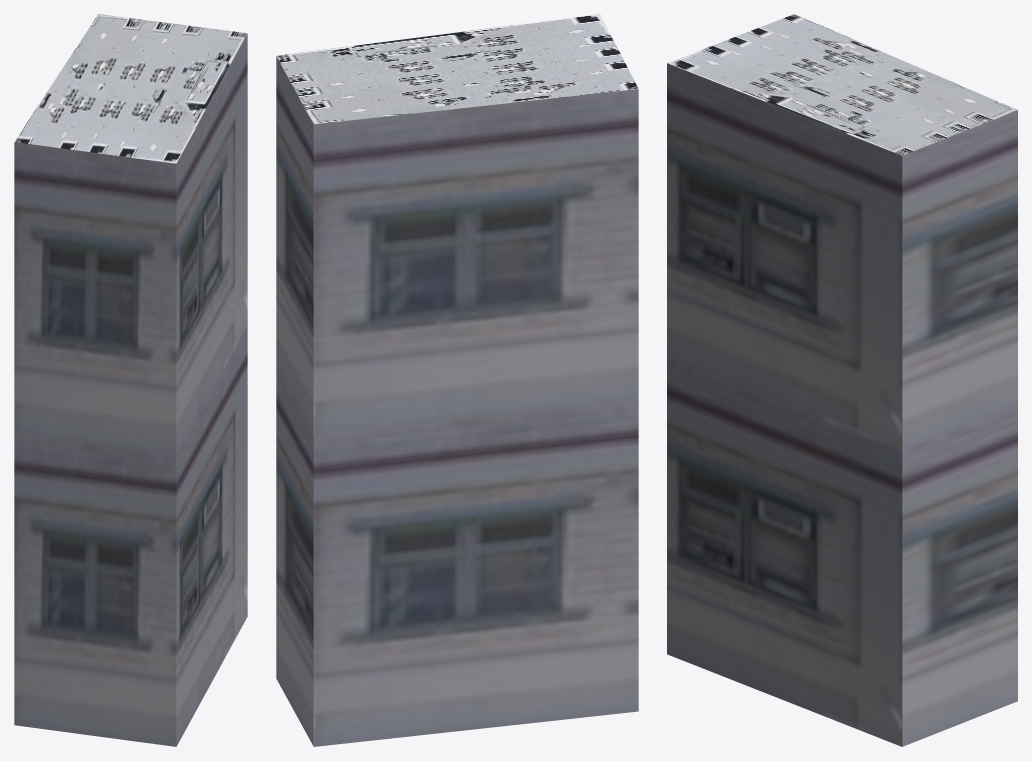
File: ResTex__4779.fbx
3 renders of one model, left to right at view 1: azimuth 30°, elevation 25°; view 2: azimuth 150°, elevation 25°; view 3: azimuth 270°, elevation 25°, orthographic. The views are drawn at different scales.
Visible parts, largest first — view 1: CityEngineMaterial_1_m, CityEngineMaterial_8_m; view 2: CityEngineMaterial_1_m, CityEngineMaterial_8_m; view 3: CityEngineMaterial_1_m, CityEngineMaterial_8_m.
Boxes of the visible parts, left/top/right/bottom form: CityEngineMaterial_1_m: left=14, top=34, right=247, bottom=746; CityEngineMaterial_8_m: left=14, top=14, right=247, bottom=163; CityEngineMaterial_1_m: left=276, top=56, right=638, bottom=746; CityEngineMaterial_8_m: left=276, top=14, right=638, bottom=124; CityEngineMaterial_1_m: left=667, top=63, right=1017, bottom=746; CityEngineMaterial_8_m: left=667, top=14, right=1017, bottom=155.
Bounding box in the file's own units: 3.09 × 6 × 3.23.
2 materials, 2 textured.
